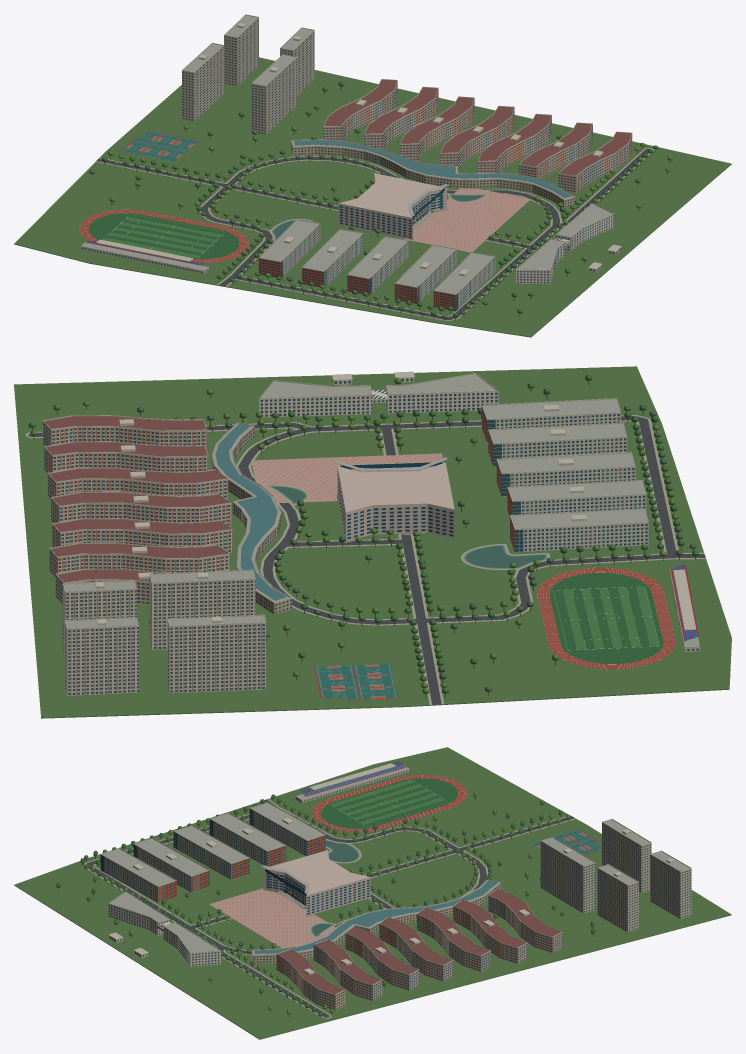
Rendered from campus.glb.
3 renders of one model, top to bottom at view 1: azimuth 30°, elevation 25°; view 2: azimuth 150°, elevation 25°; view 3: azimuth 270°, elevation 25°, orthographic. The views are drawn at different scales.
Visible parts, largest first — view 1: Campus_ground, Campus_roads, Library_south_plaza, B13_library, Campus_walkways, B12_arcade, B04_tower, B03_tower, Trees_estimated_2, B07_dorm, B05_dorm, B06_dorm (+27 smaller); view 2: Campus_ground, Campus_roads, B03_tower, B13_library, B01_tower, B04_tower, Campus_walkways, B08_dorm, B06_dorm, B15_teaching, B07_dorm, B09_dorm (+44 smaller); view 3: Campus_ground, B13_library, Library_south_plaza, B04_tower, Campus_roads, Campus_walkways, B03_tower, B02_tower, B01_tower, B05_dorm, B09_dorm, B06_dorm (+28 smaller).
Boxes of the visible parts, x1,y1,x2,y2 form: Campus_ground: (14, 57, 731, 337); Campus_roads: (96, 148, 649, 320); Library_south_plaza: (404, 188, 530, 252); B13_library: (338, 173, 446, 239); Campus_walkways: (95, 147, 653, 321); B12_arcade: (291, 141, 575, 207); B04_tower: (251, 55, 297, 134); B03_tower: (182, 43, 223, 121); Trees_estimated_2: (89, 81, 640, 319); B07_dorm: (400, 97, 474, 160); B05_dorm: (323, 80, 397, 140); B06_dorm: (364, 87, 438, 149); Campus_ground: (14, 366, 731, 718); Campus_roads: (28, 416, 705, 704); B03_tower: (167, 616, 266, 693); B13_library: (337, 462, 454, 541); B01_tower: (64, 618, 138, 695); B04_tower: (149, 571, 255, 649); Campus_walkways: (25, 415, 705, 704); B08_dorm: (51, 493, 231, 526); B06_dorm: (49, 543, 229, 577); B15_teaching: (510, 509, 648, 551); B07_dorm: (52, 519, 232, 552); B09_dorm: (47, 468, 228, 499); Campus_ground: (14, 747, 731, 1039); B13_library: (263, 850, 370, 916); Library_south_plaza: (209, 888, 335, 947); B04_tower: (540, 838, 595, 913); Campus_roads: (86, 799, 574, 1017); Campus_walkways: (84, 799, 576, 1018); B03_tower: (602, 819, 651, 892); B02_tower: (597, 865, 638, 932); B01_tower: (650, 851, 691, 918); B05_dorm: (488, 889, 562, 953); B09_dorm: (345, 927, 419, 990); B06_dorm: (453, 900, 527, 963).
Bounding box in the file's own units: 722 × 56.81 × 750.
40 materials, 11 textured.
